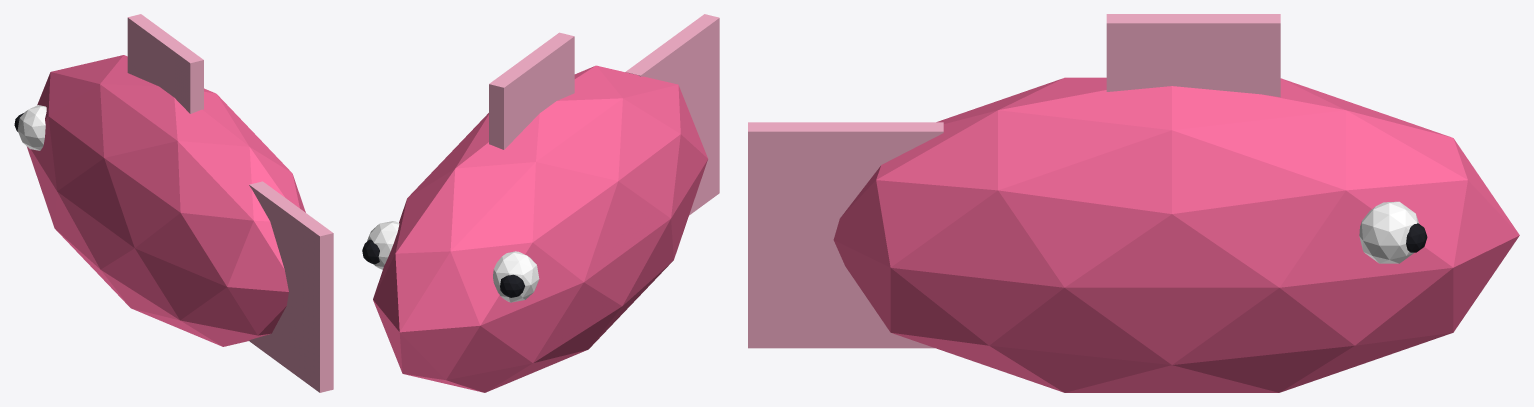
Rendered from Scuba_FishPink.fbx.
The picture shows the model from 3 angles, left to right: view 1: azimuth 30°, elevation 25°; view 2: azimuth 150°, elevation 25°; view 3: azimuth 270°, elevation 25°; orthographic projection. The views are drawn at different scales.
Visible parts, largest first — view 1: FishPink; view 2: FishPink; view 3: FishPink.
Boxes of the visible parts, left/top/right/bottom form: FishPink: left=14, top=14, right=333, bottom=392; FishPink: left=362, top=14, right=719, bottom=392; FishPink: left=748, top=14, right=1519, bottom=392.
Bounding box in the file's own units: 0.2283 × 0.38 × 0.71.
